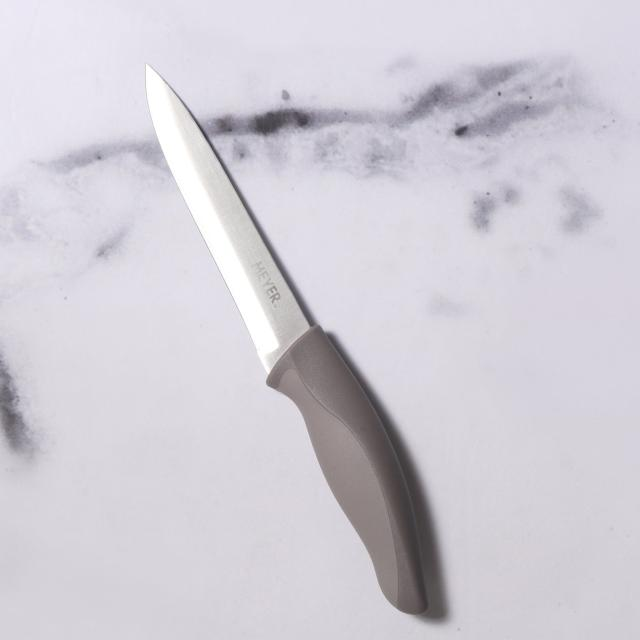Weapon: (146, 69, 426, 613)
